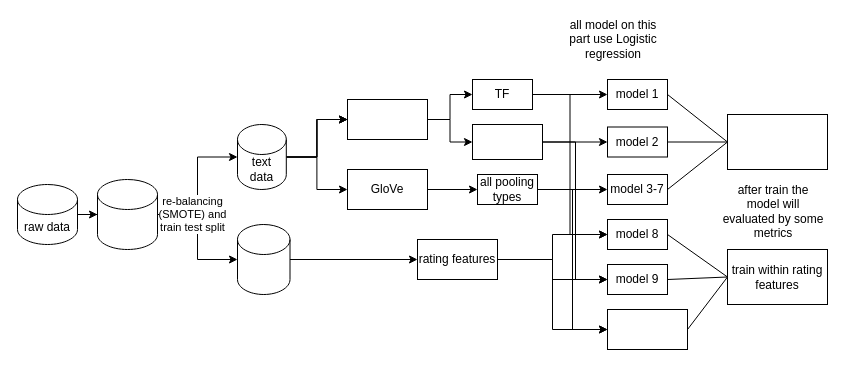
This 845x367 diagram has some shape labels left out. Here are the shapes that lost their labels. From the top down, the centre of each, then its label:
At point 387,119: "Bag of Words".
At point 507,142: "TF-IDF".
At point 777,142: "train without rating features".
At point 127,214: "Processed data".
At point 263,259: "non-text data".
At point 647,329: "model 10-14".
